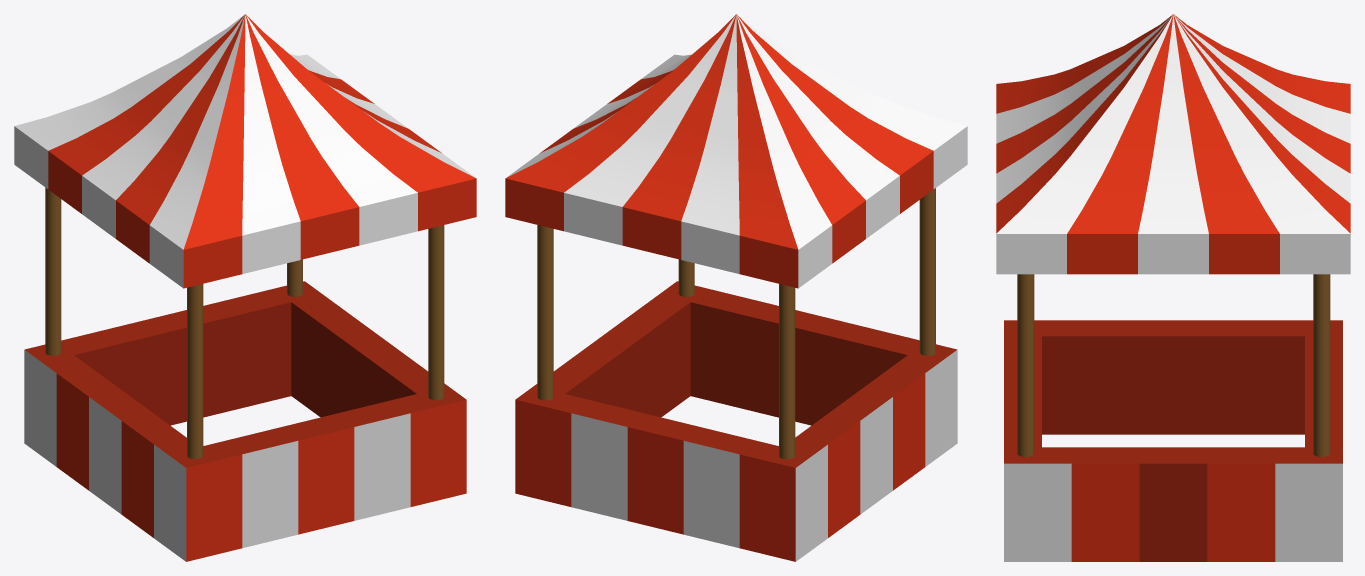
File: TiendaPatos.fbx
3 renders of one model, left to right at view 1: azimuth 30°, elevation 25°; view 2: azimuth 150°, elevation 25°; view 3: azimuth 270°, elevation 25°, orthographic. The views are drawn at different scales.
Parts seen in each view (by area): view 1: Carpa; view 2: Carpa; view 3: Carpa.
Boxes of the visible parts, left/top/right/bottom form: Carpa: left=14, top=14, right=476, bottom=561; Carpa: left=505, top=14, right=967, bottom=561; Carpa: left=996, top=14, right=1350, bottom=561.
Size of the model in its own units: 209 by 310 by 209.
Materials: 1 (1 with a texture image).
